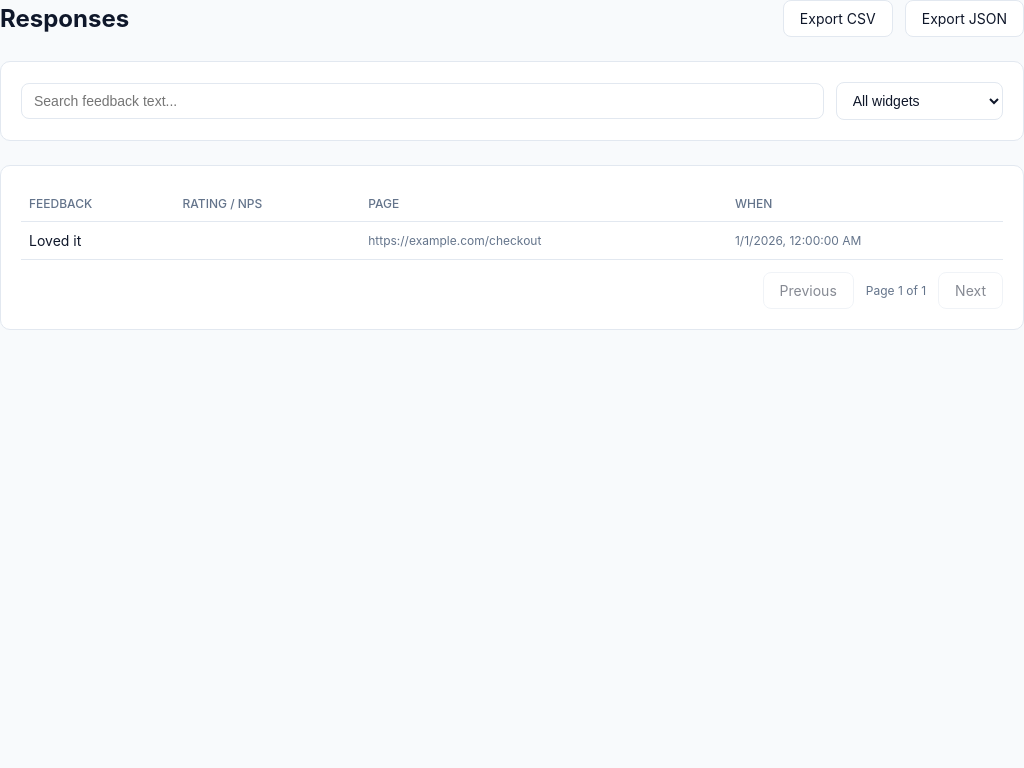
it: ResponsesPage › opens the detail modal and renders question_title labels with joined optionLabels
Step 1. Click the text "Loved it" → point(98, 240), box 21,222 -> 175,260
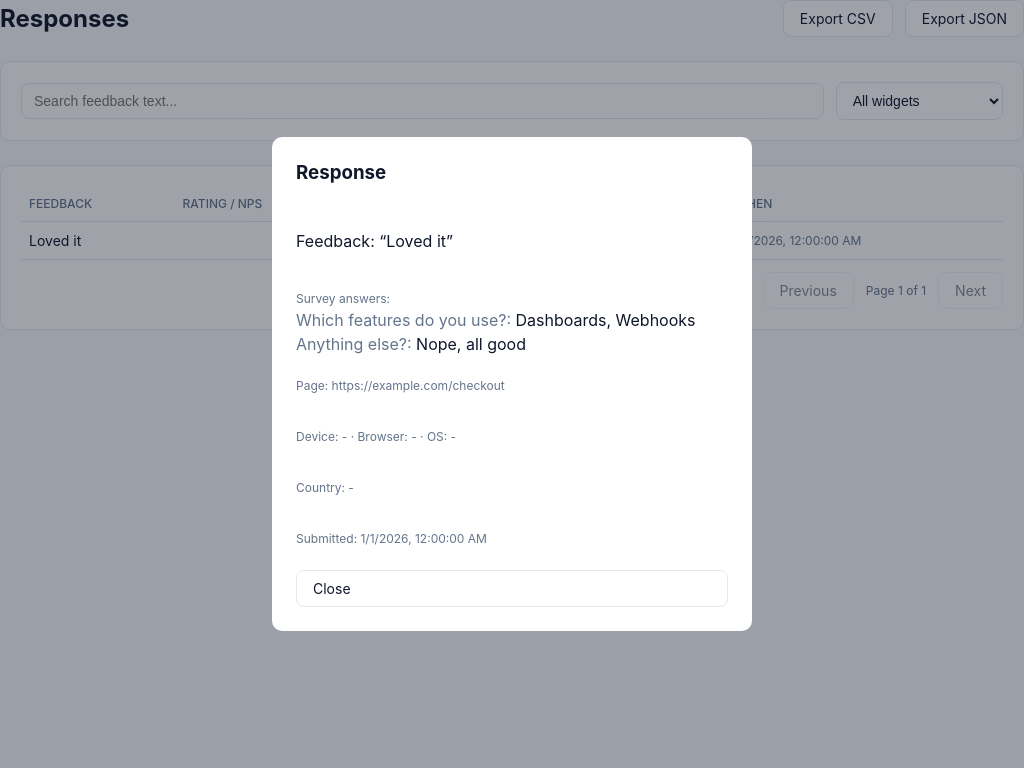
Expected: the text "Which features do you use?:" shows "Dashboards, Webhooks", 516,310 -> 696,330
Expected: the text "Anything else?:" shows "Nope, all good", 416,334 -> 526,354
